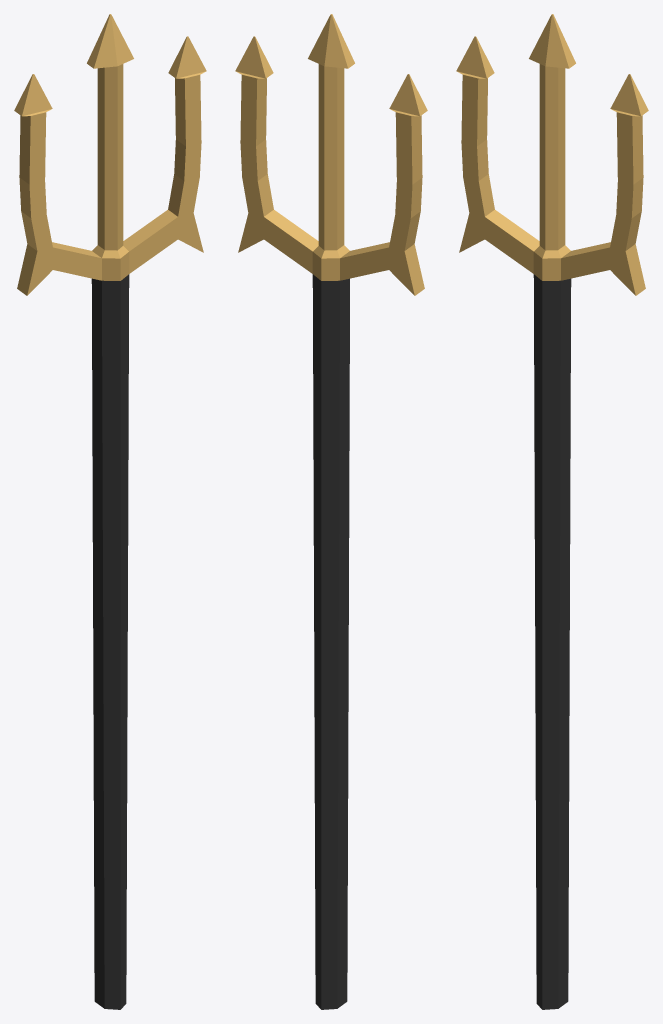
Rendered from Trident.fbx.
3 views of the same model, side by side, from view 1: azimuth 30°, elevation 25°; view 2: azimuth 150°, elevation 25°; view 3: azimuth 330°, elevation 25° (orthographic).
Visible parts, largest first — view 1: Cylinder; view 2: Cylinder; view 3: Cylinder.
Part boxes in pixels (x1=…): Cylinder: x1=14, y1=14, x2=206, y2=1009; Cylinder: x1=235, y1=14, x2=427, y2=1009; Cylinder: x1=456, y1=14, x2=648, y2=1009.
Bounding box in the file's own units: 21.74 × 111 × 4.1.
